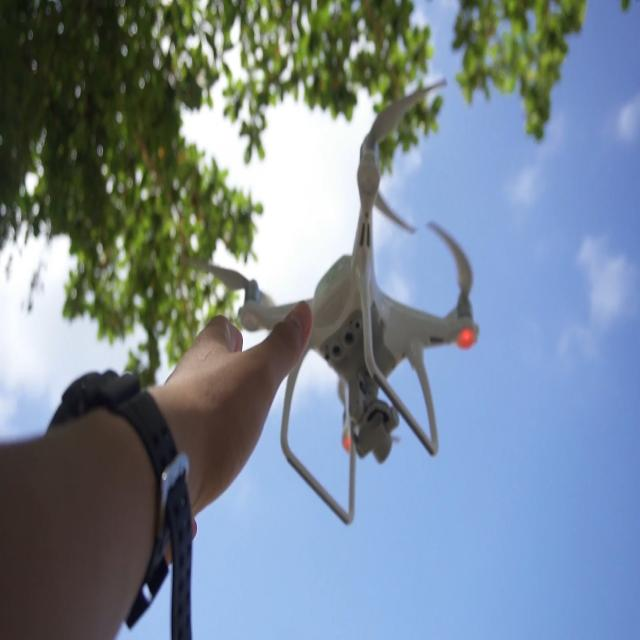Drone: (224, 95, 493, 498)
